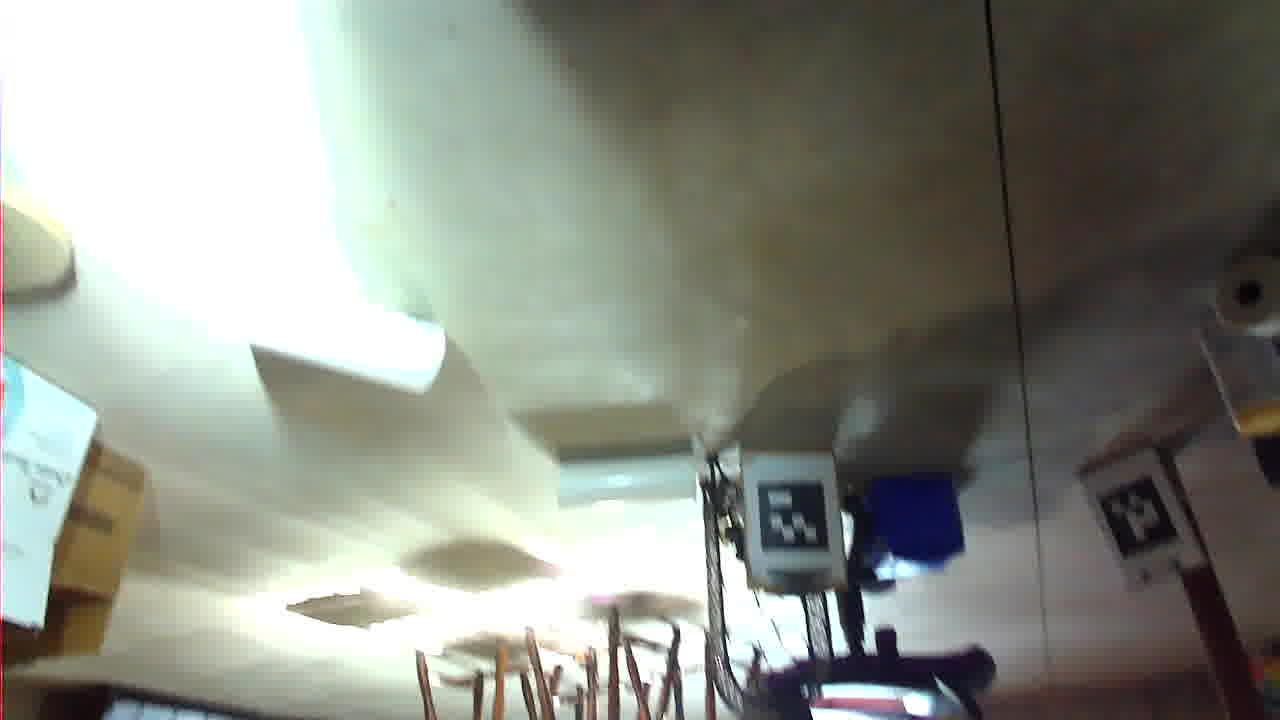coral: (836, 325, 1066, 436), (583, 210, 726, 265)
